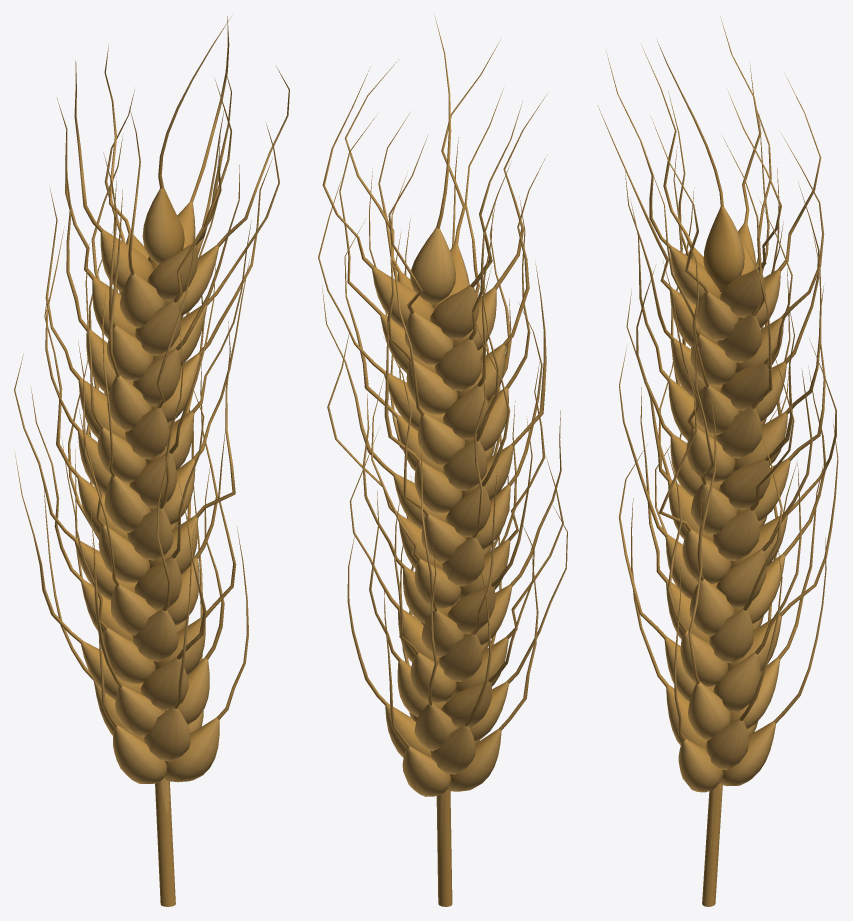
File: whea.glb
3 renders of one model, left to right at view 1: azimuth 30°, elevation 25°; view 2: azimuth 150°, elevation 25°; view 3: azimuth 270°, elevation 25°, orthographic. The views are drawn at different scales.
Parts seen in each view (by area): view 1: Oats_01; view 2: Oats_01; view 3: Oats_01.
Part boxes in pixels (box(x1,y1,x2,y2)): Oats_01: box(14, 16, 289, 906); Oats_01: box(318, 14, 567, 906); Oats_01: box(598, 16, 838, 906).
Bounding box in the file's own units: 55.77 × 204 × 50.63.
Materials: 1 (1 with a texture image).
